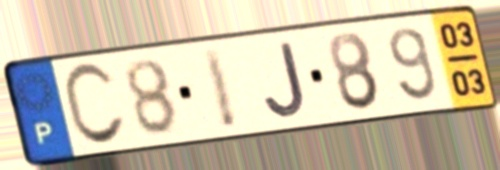8: (122, 57, 181, 139), (326, 29, 382, 114)
9: (386, 25, 440, 104)
C: (59, 59, 130, 150)
I: (199, 44, 242, 133)
J: (260, 38, 310, 121)
